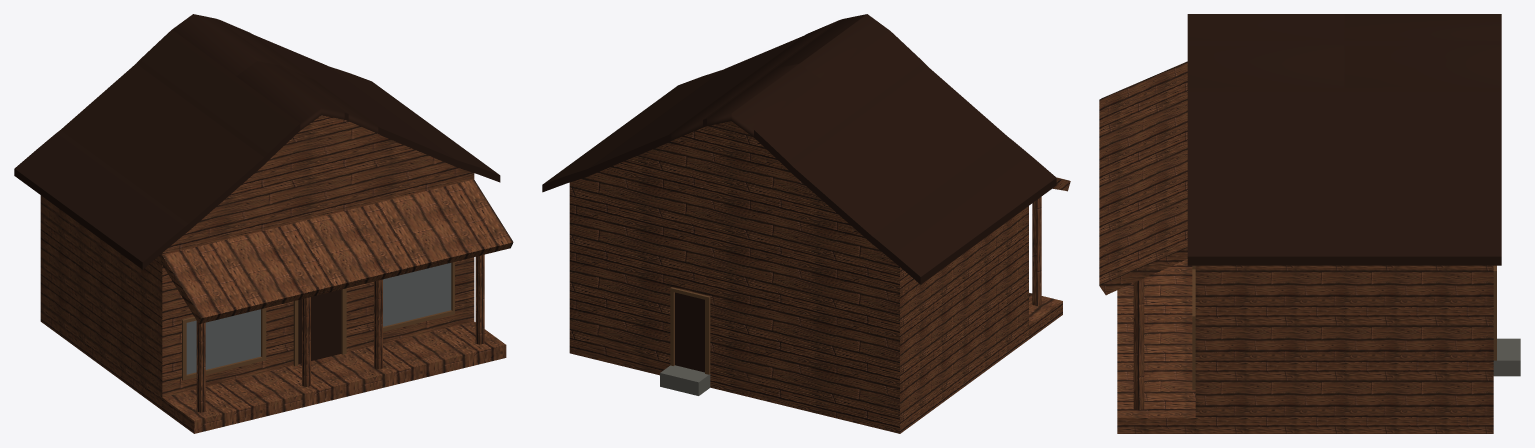
The model's file is StoreFront02.fbx.
3 renders of one model, left to right at view 1: azimuth 30°, elevation 25°; view 2: azimuth 150°, elevation 25°; view 3: azimuth 270°, elevation 25°, orthographic. The views are drawn at different scales.
Parts seen in each view (by area): view 1: polySurface5, StoreFront02_Roof, StoreFront02_Post02, StoreFront02_Post01, StoreFront02_Post04, StoreFront02_Post03; view 2: polySurface5, StoreFront02_Roof, StoreFront02_Post02; view 3: polySurface5, StoreFront02_Roof, StoreFront02_Post01.
Part boxes in pixels (box(x1,y1,x2,y2)): polySurface5: box(40, 115, 513, 433); StoreFront02_Roof: box(14, 14, 500, 269); StoreFront02_Post02: box(196, 321, 205, 412); StoreFront02_Post01: box(475, 254, 484, 344); StoreFront02_Post04: box(374, 279, 382, 369); StoreFront02_Post03: box(302, 297, 310, 386); polySurface5: box(569, 121, 1070, 433); StoreFront02_Roof: box(542, 14, 1056, 284); StoreFront02_Post02: box(1032, 196, 1041, 305); polySurface5: box(1099, 61, 1520, 433); StoreFront02_Roof: box(1187, 14, 1501, 265); StoreFront02_Post01: box(1133, 278, 1144, 410).
Size of the model in its own units: 243 by 174 by 203.
Materials: 6 (2 with a texture image).
